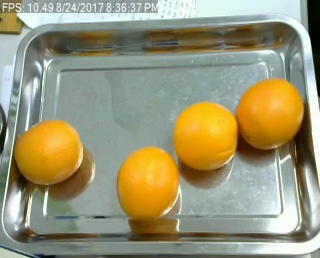Orange: (236, 77, 304, 149), (116, 146, 179, 221), (13, 118, 83, 184), (173, 102, 238, 169)
